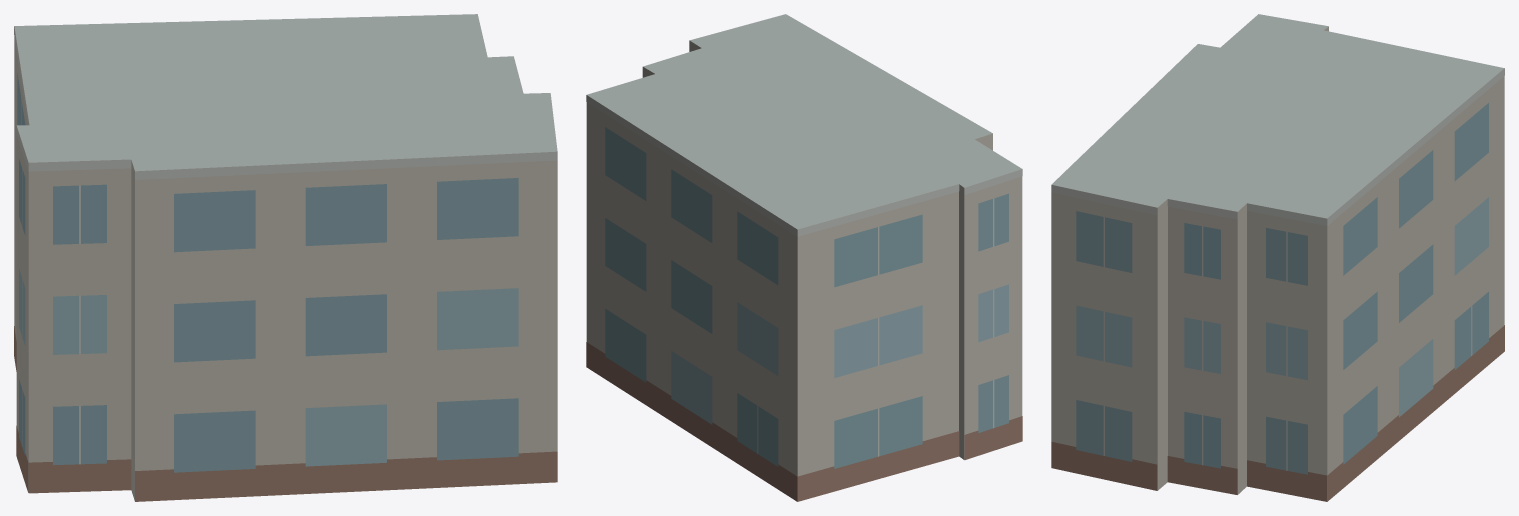
The model's file is survey-upis-32670316.glb.
The picture shows the model from 3 angles, left to right: view 1: azimuth 30°, elevation 25°; view 2: azimuth 150°, elevation 25°; view 3: azimuth 270°, elevation 25°; orthographic projection. The views are drawn at different scales.
Parts seen in each view (by area): view 1: survey-upis-32670316.tmp; view 2: survey-upis-32670316.tmp; view 3: survey-upis-32670316.tmp.
Boxes of the visible parts, x1=… form: survey-upis-32670316.tmp: x1=14, y1=14, x2=557, y2=501; survey-upis-32670316.tmp: x1=586, y1=14, x2=1022, y2=501; survey-upis-32670316.tmp: x1=1051, y1=14, x2=1504, y2=501.
Size of the model in its own units: 14.18 by 9.15 by 13.28.
